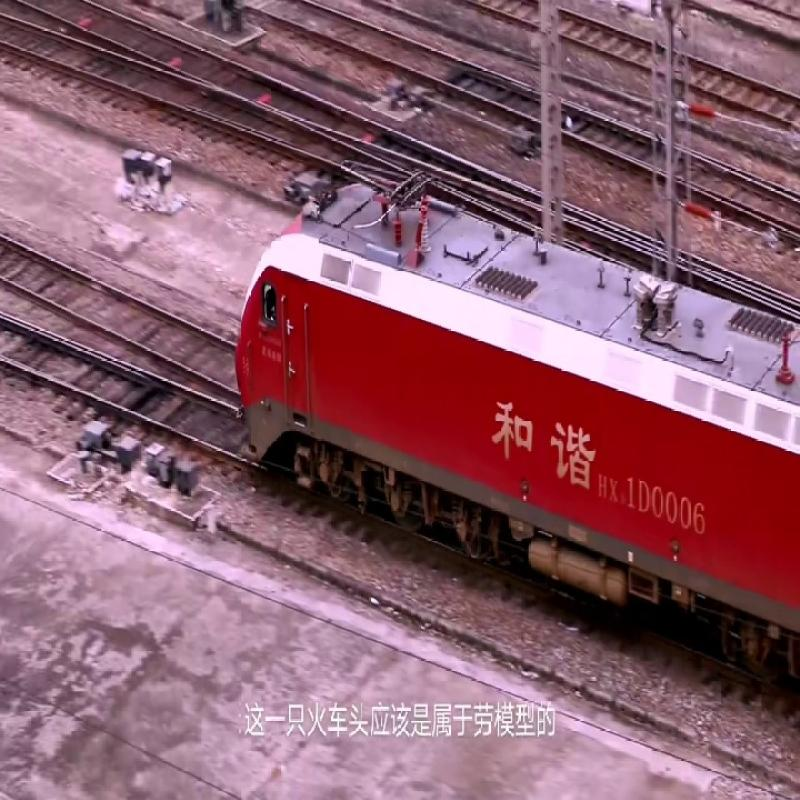train: (241, 188, 800, 672)
